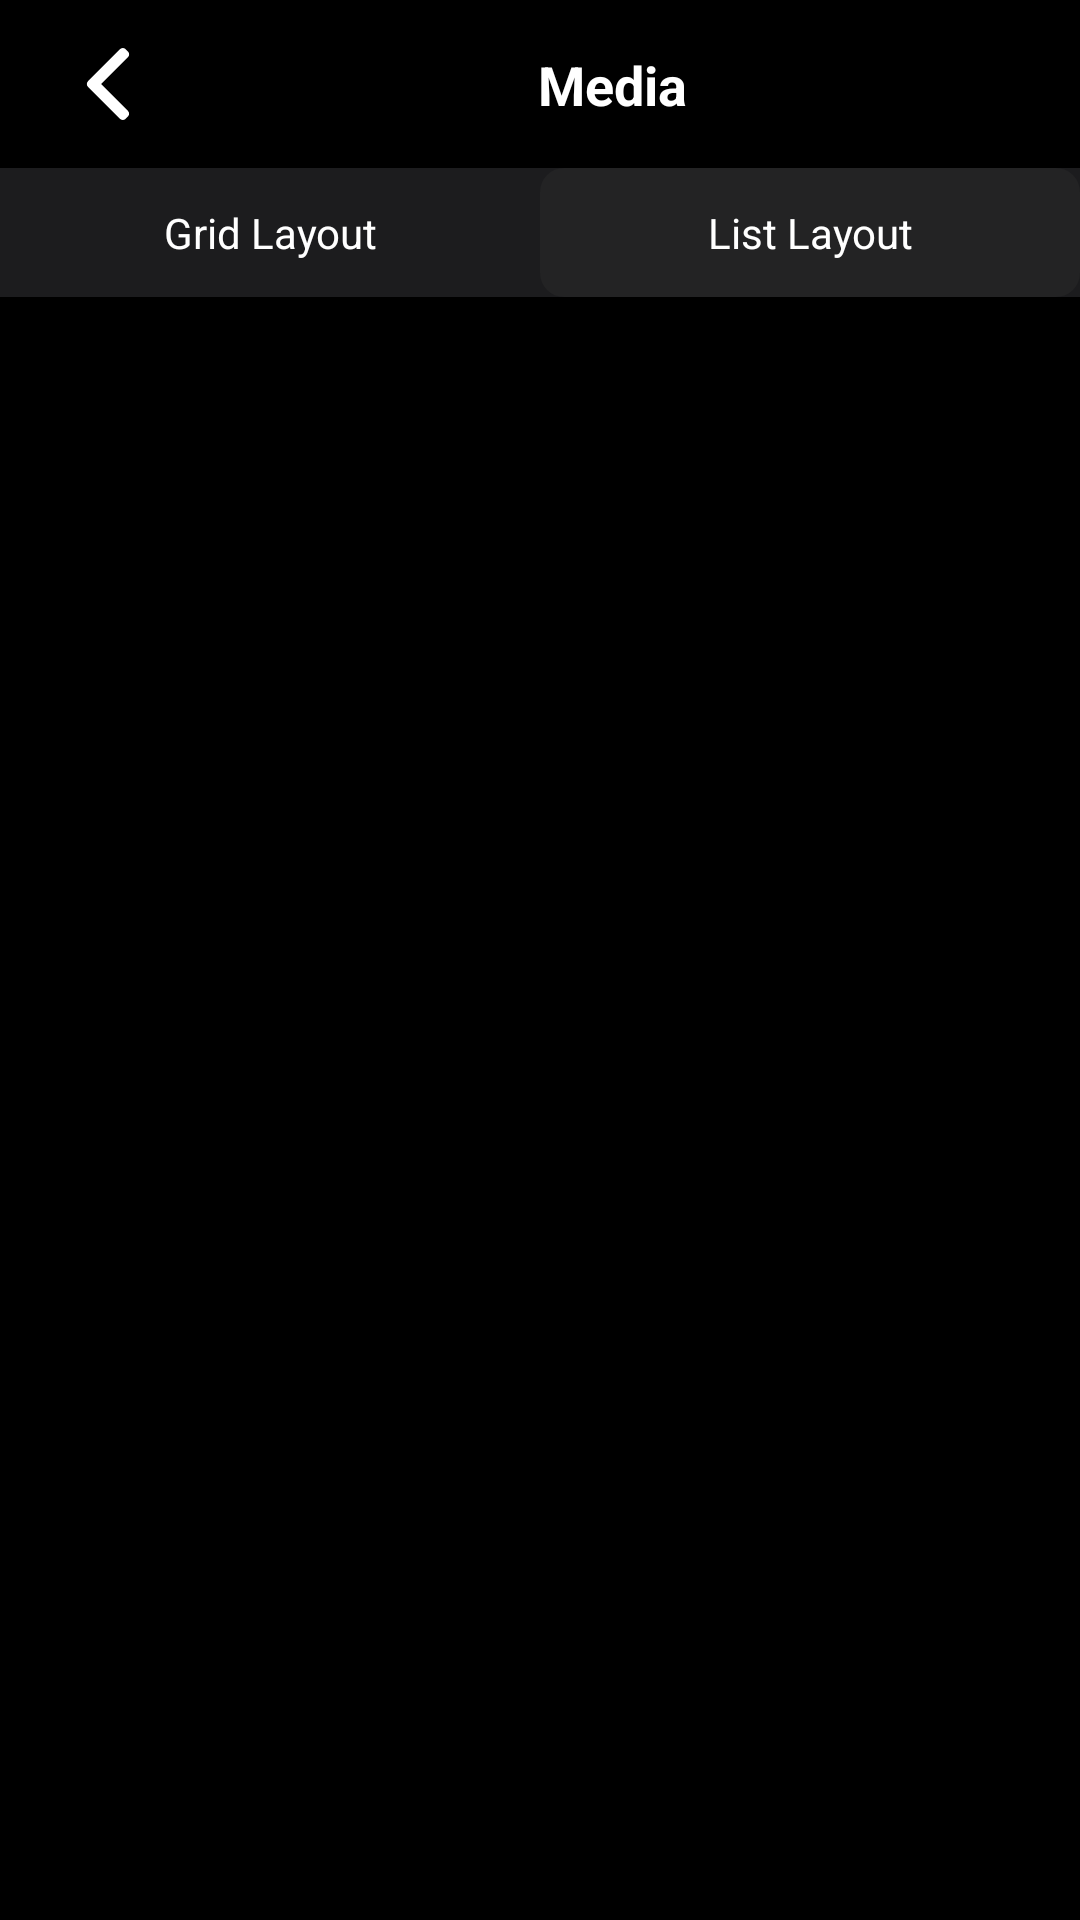

Where to tap for icons on this 1080x1920 app screen, as point (x, y):
back arrow: point (108, 84)
